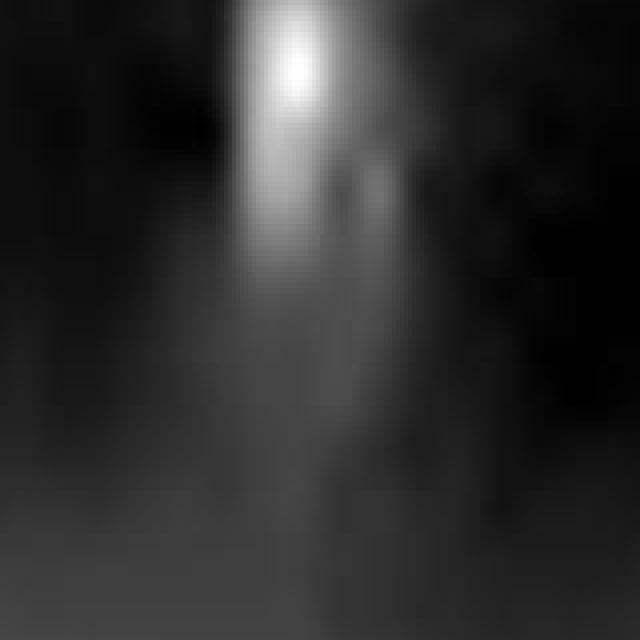person: (217, 1, 433, 486)
